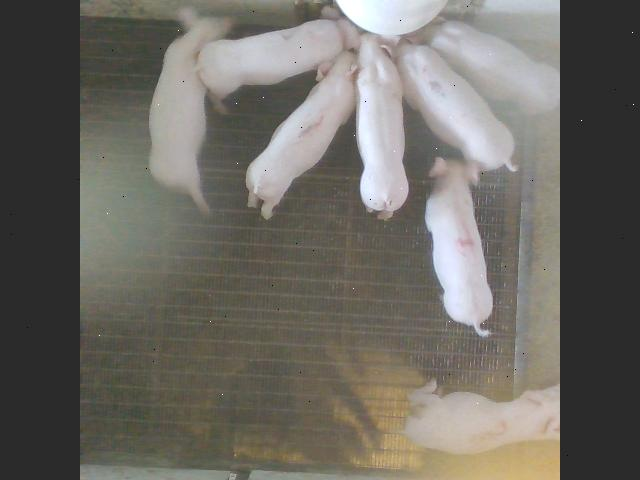pig-1: (246, 52, 357, 218)
pig-3: (402, 380, 558, 454)
pig-4: (425, 156, 492, 336)
